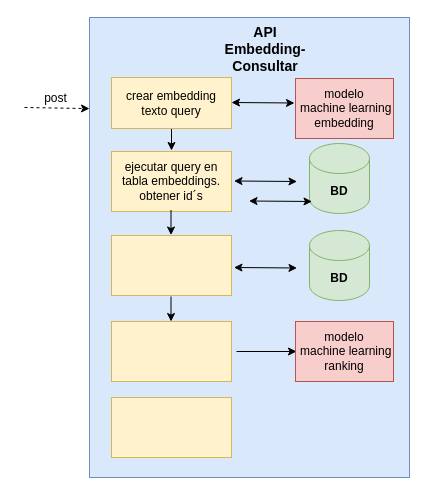
The diagram is 427 pixels wide and 495 high, and some of its shapes have lost their labels. The shapes that lost their labels are listed below. From the top down, each one's centre as x and y in pixels, then its label:
At pixel 171 265: "consultar id´s en tabla Corpus".
At pixel 171 351: "obtener ranking".
At pixel 171 427: "return: listado id´s documentos".
